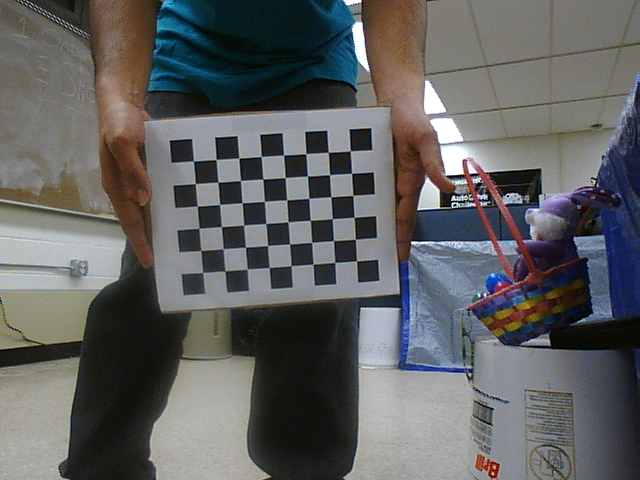bunny: (451, 151, 617, 354)
